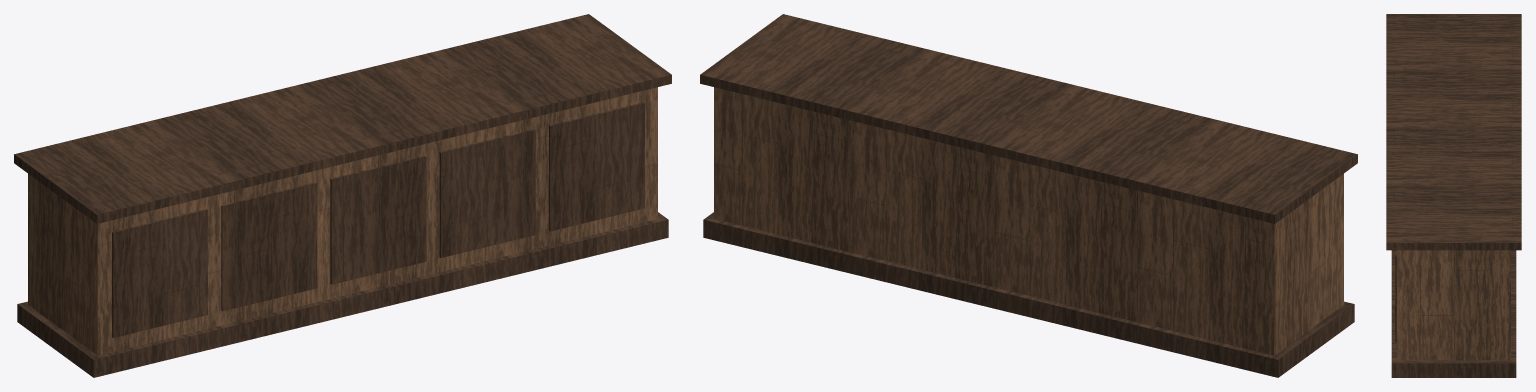
File: PRP_Mostrador.fbx
3 views of the same model, side by side, from view 1: azimuth 30°, elevation 25°; view 2: azimuth 150°, elevation 25°; view 3: azimuth 270°, elevation 25° (orthographic). The views are drawn at different scales.
Parts seen in each view (by area): view 1: PRP_Mostrador; view 2: PRP_Mostrador; view 3: PRP_Mostrador.
Part boxes in pixels (x1,y1,x2,y2): PRP_Mostrador: [14, 14, 671, 377]; PRP_Mostrador: [700, 14, 1357, 377]; PRP_Mostrador: [1386, 14, 1521, 377].
Size of the model in its own units: 4 by 1.1 by 1.
